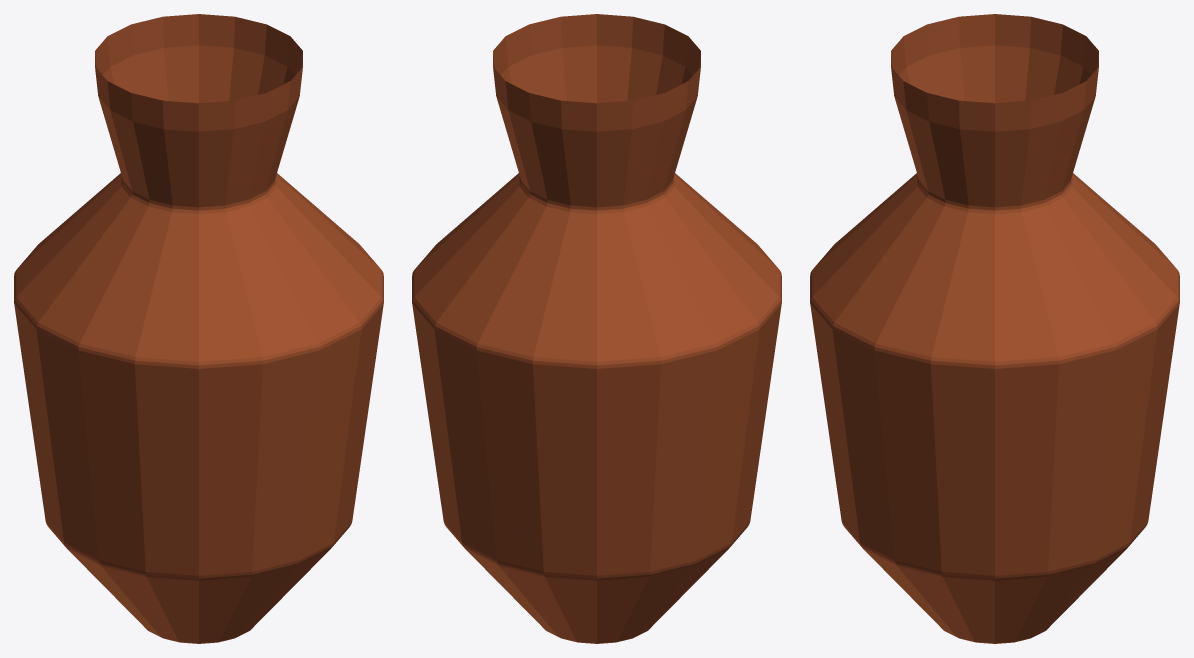
File: amphora_destructible_LOD1.glb
3 renders of one model, left to right at view 1: azimuth 30°, elevation 25°; view 2: azimuth 150°, elevation 25°; view 3: azimuth 270°, elevation 25°, orthographic.
Parts seen in each view (by area): view 1: LOD1_Amphora; view 2: LOD1_Amphora; view 3: LOD1_Amphora.
Boxes of the visible parts, <box> form: LOD1_Amphora: <box>14,14,383,643</box>; LOD1_Amphora: <box>412,14,781,643</box>; LOD1_Amphora: <box>810,14,1179,643</box>.
Bounding box in the file's own units: 0.5684 × 0.94 × 0.5598.
